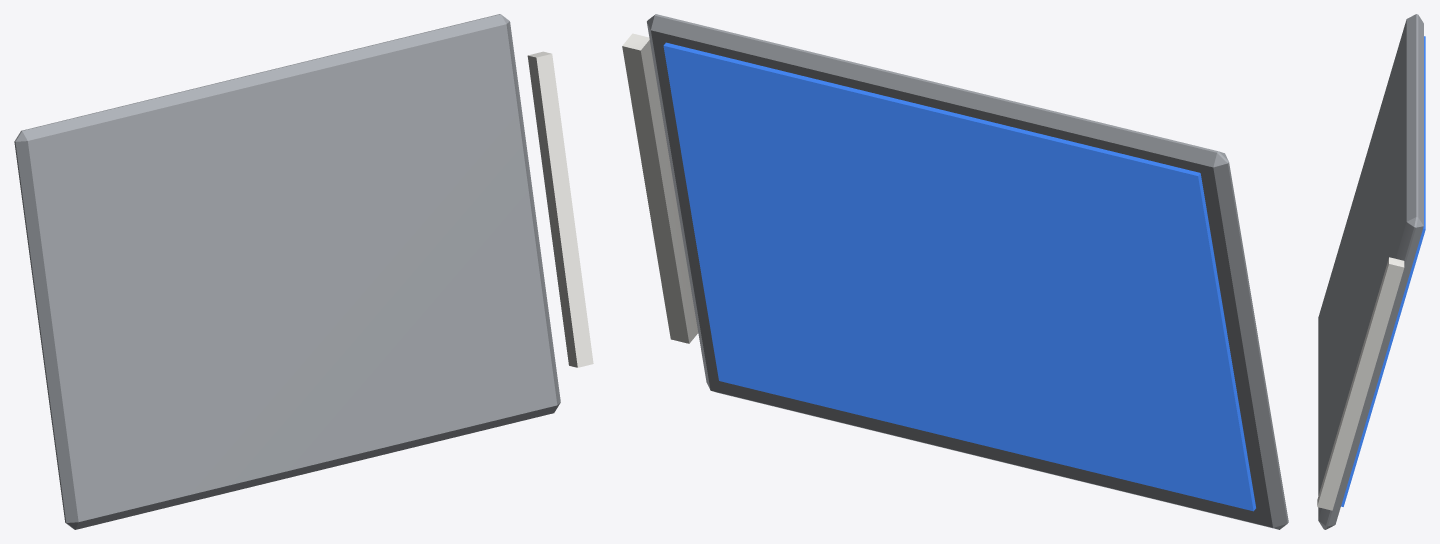
File: held_tablet_01.glb
3 views of the same model, side by side, from view 1: azimuth 30°, elevation 25°; view 2: azimuth 150°, elevation 25°; view 3: azimuth 270°, elevation 25° (orthographic). The views are drawn at different scales.
Parts seen in each view (by area): view 1: held_tablet_01_mesh; view 2: held_tablet_01_screen, held_tablet_01_mesh; view 3: held_tablet_01_mesh, held_tablet_01_screen.
Boxes of the visible parts, x1,y1,x2,y2 form: held_tablet_01_mesh: (14,14,593,529); held_tablet_01_screen: (663,42,1255,511); held_tablet_01_mesh: (622,14,1288,529); held_tablet_01_mesh: (1317,14,1423,529); held_tablet_01_screen: (1341,36,1425,506).
Size of the model in its own units: 0.264 by 0.1741 by 0.0547.
Materials: 2 (2 with a texture image).
